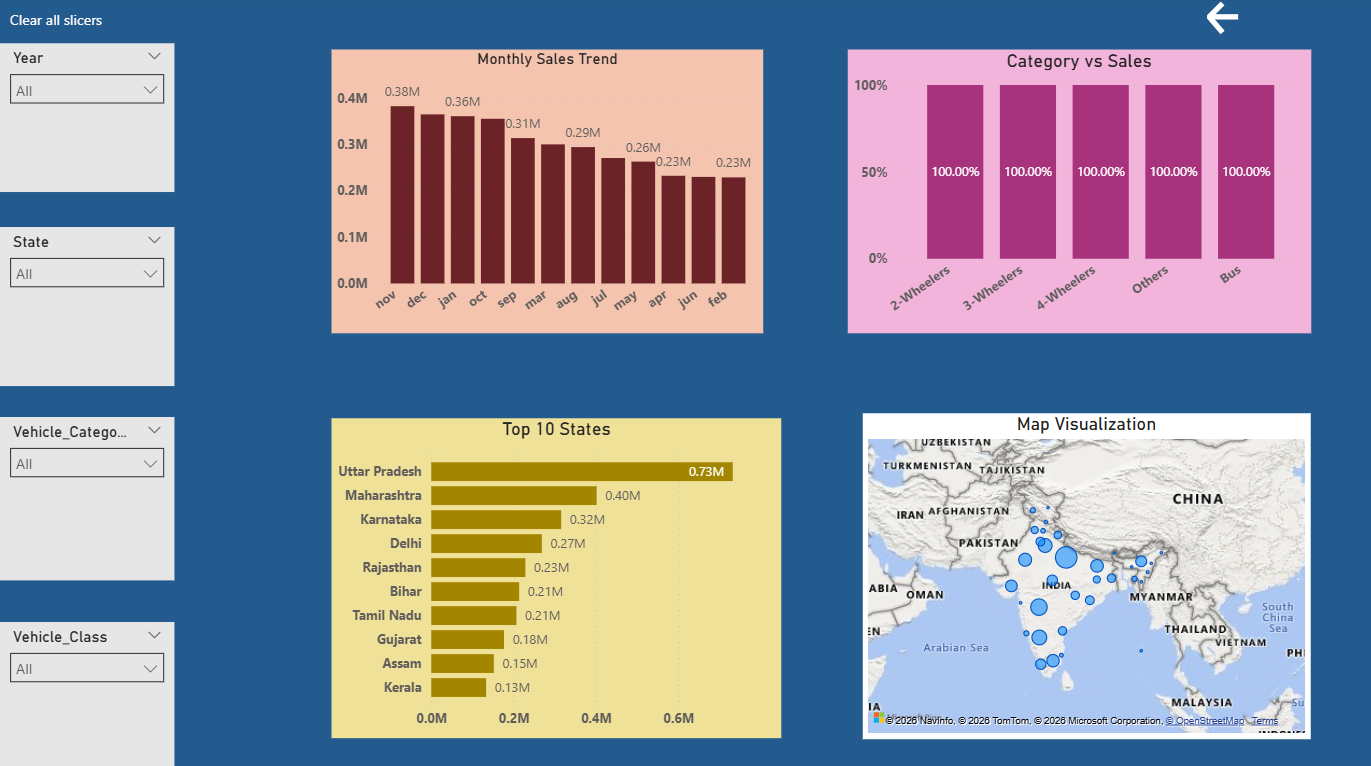

What the dashboard file says about the page in this screenshot:
{"tool":"powerbi","page":{"name":"Page 2","canvas":[1280,720],"ordinal":1},"visuals":[{"type":"clusteredColumnChart","title":"Monthly Sales Trend","fields":{"Category":["Worksheet.Month_Name"],"Y":["Sum(Worksheet.EV_Sales_Quantity)"]},"box":[309.8,48.4,401.8,263.8],"z":0},{"type":"hundredPercentStackedColumnChart","title":"Category vs Sales","fields":{"Category":["Worksheet.Vehicle_Category"],"Y":["Sum(Worksheet.EV_Sales_Quantity)"]},"box":[789.1,48.4,430.9,263.8],"z":1000},{"type":"map","title":"Map Visualization","fields":{"Category":["Worksheet.State"],"Size":["Sum(Worksheet.EV_Sales_Quantity)"]},"box":[803.6,387.3,416.3,302.6],"z":2000},{"type":"clusteredBarChart","title":"Top 10 States","fields":{"Category":["Worksheet.State"],"Y":["Sum(Worksheet.EV_Sales_Quantity)"]},"box":[309.8,392.1,418.8,297.7],"z":3000},{"type":"slicer","fields":{"Values":["Worksheet.Date.Variation.Date Hierarchy.Year"]},"box":[0,43.2,163.5,138.5],"z":4000},{"type":"slicer","fields":{"Values":["Worksheet.State"]},"box":[0,213.5,163.5,147.6],"z":5000},{"type":"slicer","fields":{"Values":["Worksheet.Vehicle_Category"]},"box":[0,390.6,163.5,152.2],"z":6000},{"type":"slicer","fields":{"Values":["Worksheet.Vehicle_Class"]},"box":[0,581.4,163.5,138.5],"z":7000},{"type":"actionButton","box":[1119.4,0,101.1,38.9],"z":8000},{"type":"actionButton","box":[0,0,100,40],"z":8001}]}

Visuals, with their boxes in screenshot pixels (x1, y1, x2, y2), scaled from the page's 1280x720 canvas onto the 1371x766 screenshot:
"Monthly Sales Trend" clusteredColumnChart: detection(332, 51, 762, 332)
"Category vs Sales" hundredPercentStackedColumnChart: detection(845, 51, 1307, 332)
"Map Visualization" map: detection(861, 412, 1307, 734)
"Top 10 States" clusteredBarChart: detection(332, 417, 780, 734)
slicer - Worksheet.Date.Variation.Date Hierarchy.Year: detection(0, 46, 175, 193)
slicer - Worksheet.State: detection(0, 227, 175, 384)
slicer - Worksheet.Vehicle_Category: detection(0, 416, 175, 577)
slicer - Worksheet.Vehicle_Class: detection(0, 619, 175, 765)
actionButton: detection(1199, 0, 1307, 41)
actionButton: detection(0, 0, 107, 43)
